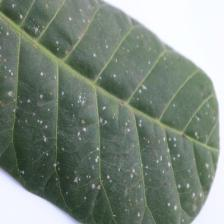red rust: (0, 0, 220, 223)
